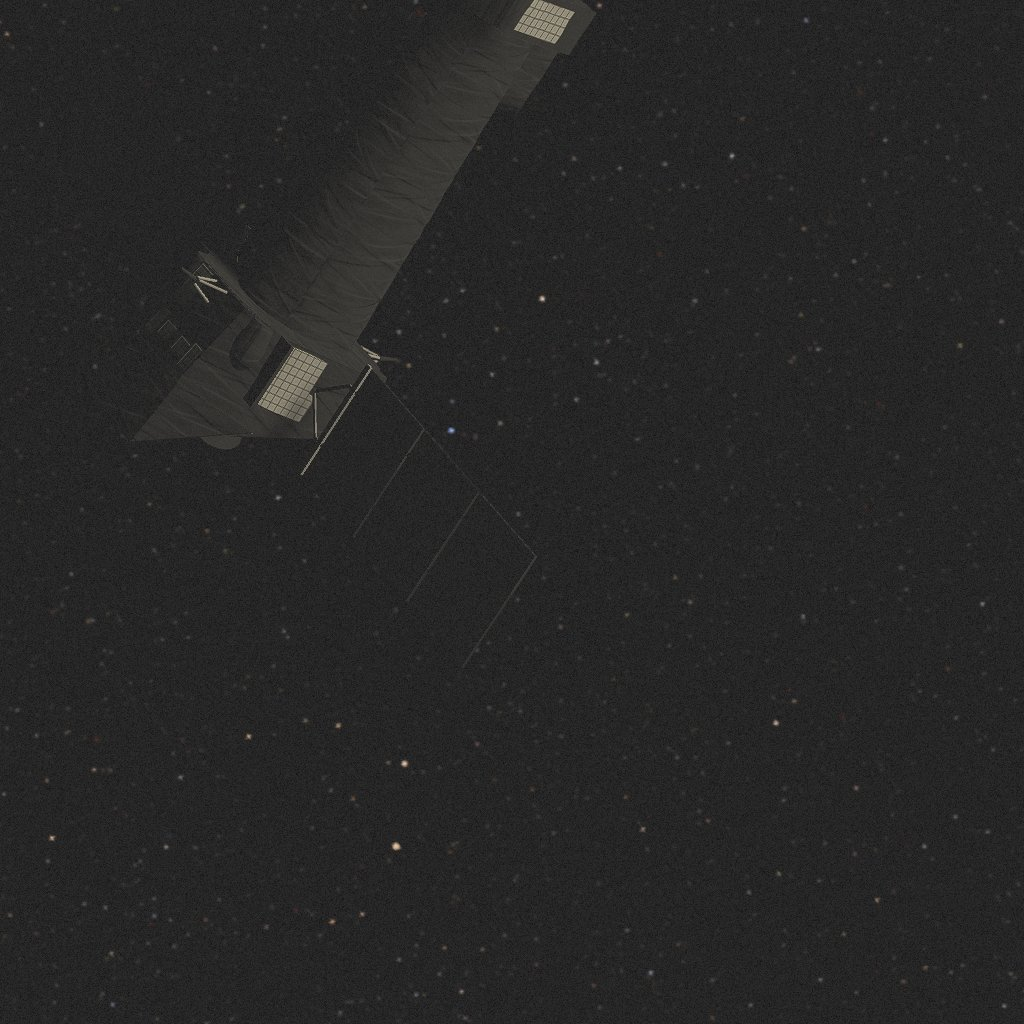xmm_newton: (43, 0, 596, 668)
